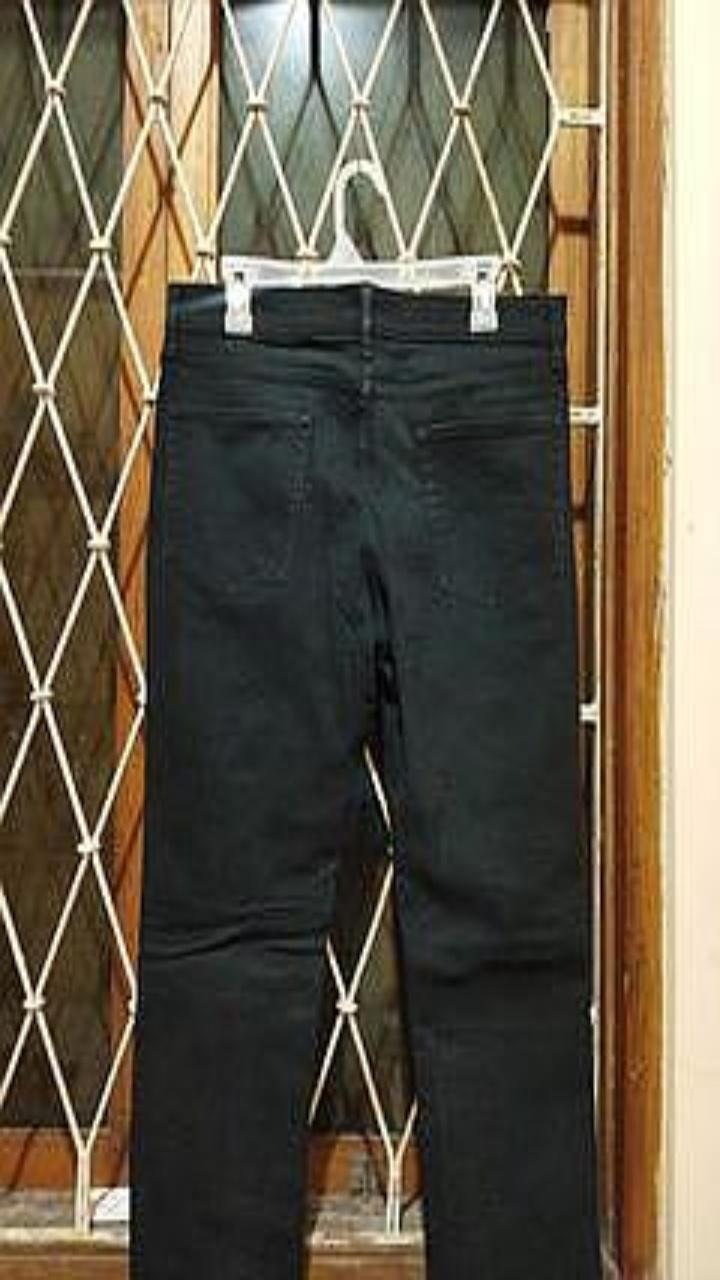Jeans: (130, 281, 600, 1279)
